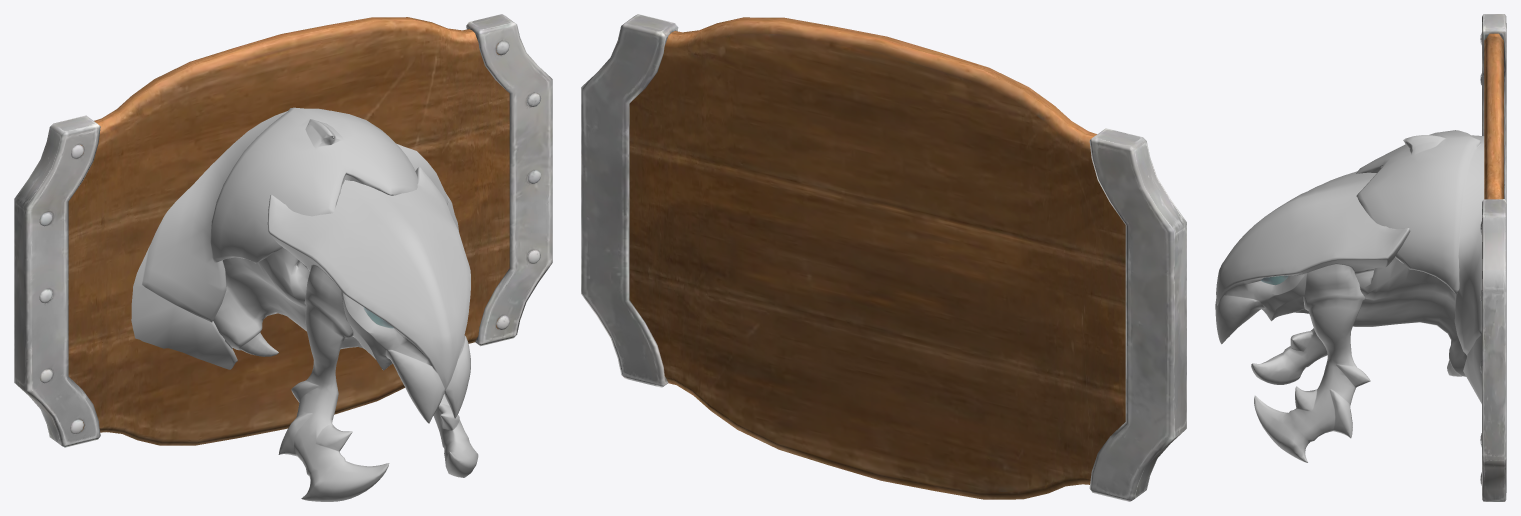
The picture shows the model from 3 angles, left to right: view 1: azimuth 30°, elevation 25°; view 2: azimuth 150°, elevation 25°; view 3: azimuth 270°, elevation 25°; orthographic projection. The views are drawn at different scales.
Parts seen in each view (by area): view 1: SM_Trophy_Plaque_Abyssal_LOD0; view 2: SM_Trophy_Plaque_Abyssal_LOD0; view 3: SM_Trophy_Plaque_Abyssal_LOD0.
Boxes of the visible parts, x1,y1,x2,y2 form: SM_Trophy_Plaque_Abyssal_LOD0: (14,14,552,501); SM_Trophy_Plaque_Abyssal_LOD0: (581,14,1186,501); SM_Trophy_Plaque_Abyssal_LOD0: (1215,14,1506,501).
Bounding box in the file's own units: 1.95 × 1.38 × 1.02.
